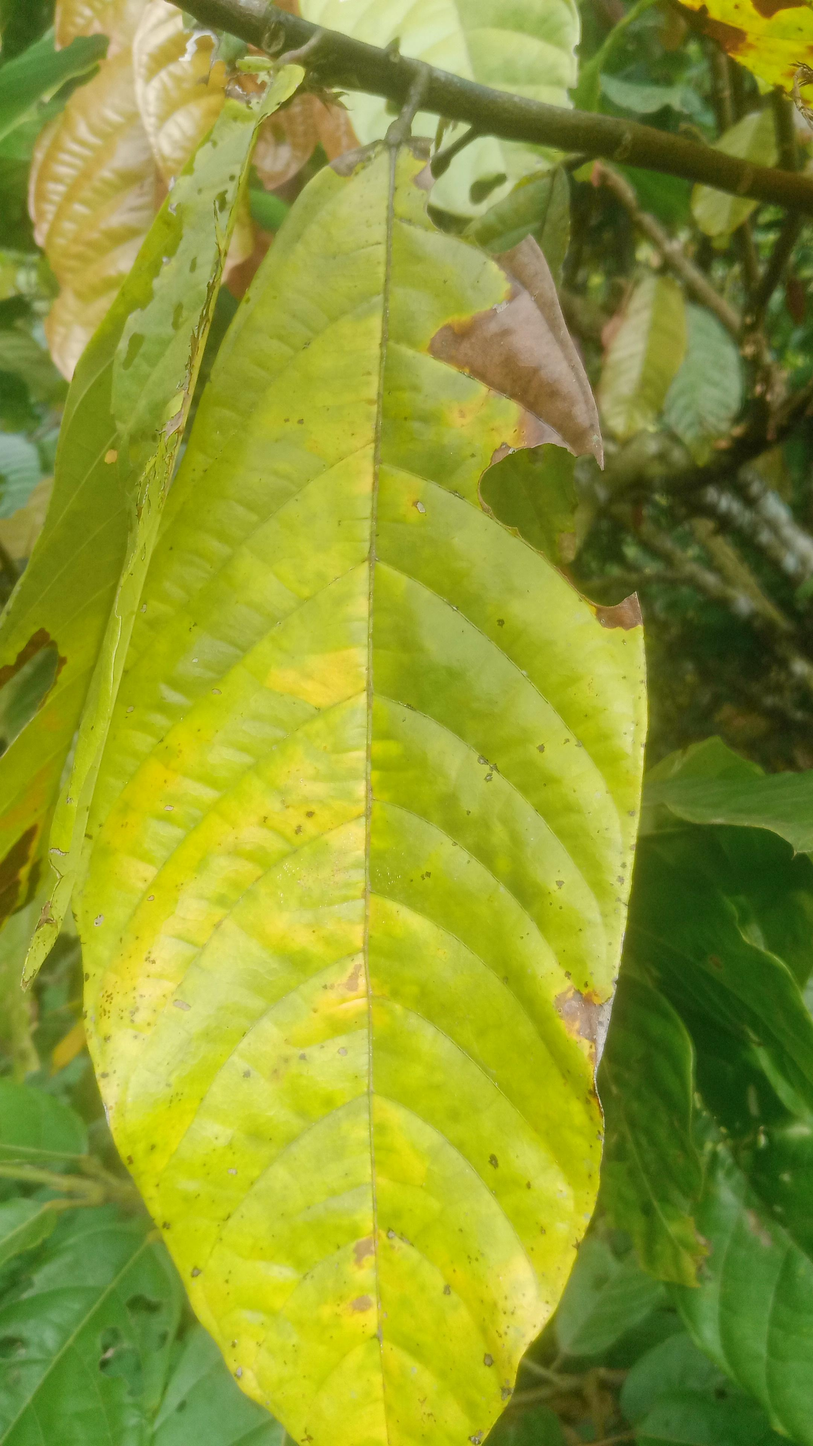deficiencia_potasio: (68, 154, 644, 1446)
